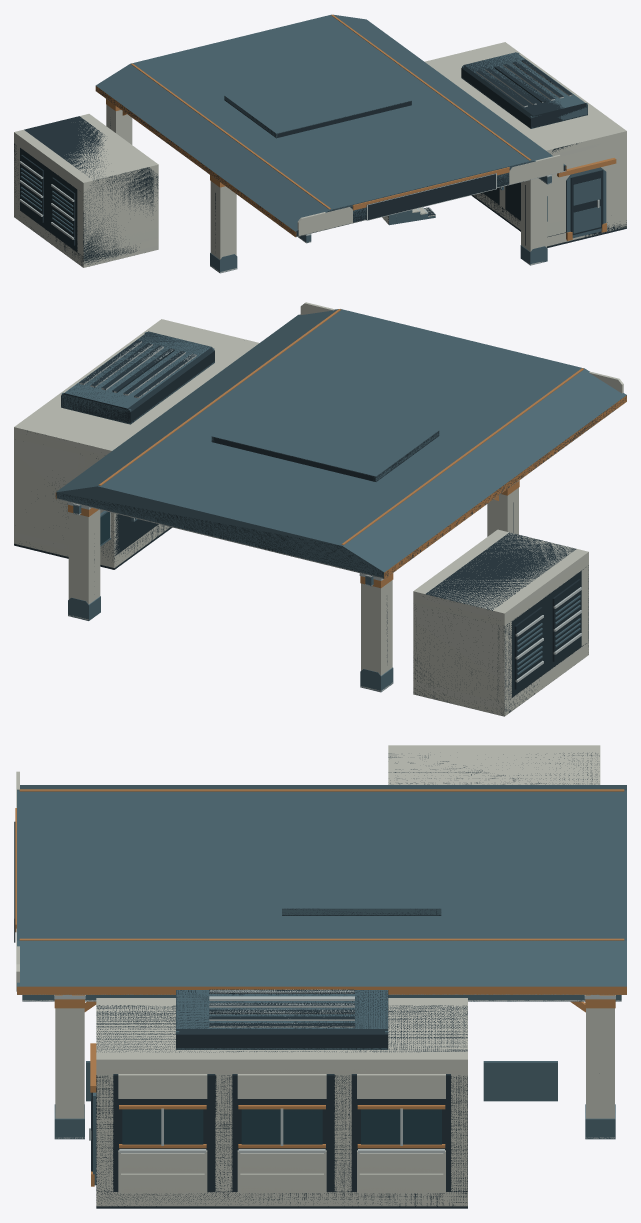
The model's file is station.glb.
The picture shows the model from 3 angles, top to bottom: view 1: azimuth 30°, elevation 25°; view 2: azimuth 150°, elevation 25°; view 3: azimuth 270°, elevation 25°; orthographic projection. The views are drawn at different scales.
Parts seen in each view (by area): view 1: Near | 02 Petrol structural enamel, Near | 01 Warm mineral cladding, Shadow | 07 Graphite gaskets and recesses, Far | 01 Warm mineral cladding, Far | 02 Petrol structural enamel, Near | 07 Graphite gaskets and recesses, Near | 03 Copper folded edge, Far | 03 Copper folded edge, Near | 04 Machined galvanized steel, Far | 07 Graphite gaskets and recesses, Far | 04 Machined galvanized steel; view 2: Near | 02 Petrol structural enamel, Near | 01 Warm mineral cladding, Shadow | 07 Graphite gaskets and recesses, Far | 01 Warm mineral cladding, Far | 02 Petrol structural enamel, Near | 03 Copper folded edge, Near | 07 Graphite gaskets and recesses, Near | 04 Machined galvanized steel, Far | 03 Copper folded edge, Far | 04 Machined galvanized steel; view 3: Near | 02 Petrol structural enamel, Near | 01 Warm mineral cladding, Far | 01 Warm mineral cladding, Shadow | 07 Graphite gaskets and recesses, Far | 02 Petrol structural enamel, Near | 03 Copper folded edge, Near | 06 Deep opaque architectural glass, Near | 04 Machined galvanized steel, Far | 03 Copper folded edge, Far | 04 Machined galvanized steel, Far | 06 Deep opaque architectural glass.
Part boxes in pixels (left/top/right/bottom): Near | 02 Petrol structural enamel: left=20, top=14, right=606, bottom=271; Near | 01 Warm mineral cladding: left=14, top=43, right=614, bottom=267; Shadow | 07 Graphite gaskets and recesses: left=14, top=52, right=626, bottom=266; Far | 01 Warm mineral cladding: left=14, top=42, right=626, bottom=267; Far | 02 Petrol structural enamel: left=210, top=52, right=587, bottom=273; Near | 07 Graphite gaskets and recesses: left=21, top=99, right=590, bottom=246; Near | 03 Copper folded edge: left=95, top=14, right=615, bottom=240; Far | 03 Copper folded edge: left=106, top=15, right=616, bottom=240; Near | 04 Machined galvanized steel: left=19, top=63, right=599, bottom=272; Far | 07 Graphite gaskets and recesses: left=310, top=105, right=603, bottom=234; Far | 04 Machined galvanized steel: left=20, top=61, right=599, bottom=239; Near | 02 Petrol structural enamel: left=56, top=309, right=626, bottom=690; Near | 01 Warm mineral cladding: left=14, top=302, right=623, bottom=716; Shadow | 07 Graphite gaskets and recesses: left=14, top=331, right=626, bottom=715; Far | 01 Warm mineral cladding: left=14, top=319, right=588, bottom=716; Far | 02 Petrol structural enamel: left=61, top=332, right=439, bottom=692; Near | 03 Copper folded edge: left=55, top=309, right=626, bottom=587; Near | 07 Graphite gaskets and recesses: left=94, top=435, right=580, bottom=689; Near | 04 Machined galvanized steel: left=57, top=342, right=606, bottom=691; Far | 03 Copper folded edge: left=68, top=309, right=583, bottom=588; Far | 04 Machined galvanized steel: left=67, top=341, right=581, bottom=682; Near | 02 Petrol structural enamel: left=17, top=785, right=626, bottom=1185; Near | 01 Warm mineral cladding: left=16, top=745, right=614, bottom=1205; Far | 01 Warm mineral cladding: left=96, top=745, right=600, bottom=1206; Shadow | 07 Graphite gaskets and recesses: left=96, top=752, right=599, bottom=1208; Far | 02 Petrol structural enamel: left=22, top=807, right=621, bottom=1139; Near | 03 Copper folded edge: left=15, top=789, right=626, bottom=1186; Near | 06 Deep opaque architectural glass: left=122, top=1109, right=441, bottom=1144; Near | 04 Machined galvanized steel: left=14, top=822, right=621, bottom=1152; Far | 03 Copper folded edge: left=15, top=789, right=624, bottom=1186; Far | 04 Machined galvanized steel: left=14, top=825, right=615, bottom=1153; Far | 06 Deep opaque architectural glass: left=122, top=1109, right=441, bottom=1144.
Size of the model in its own units: 30.14 by 7.7 by 23.11.
